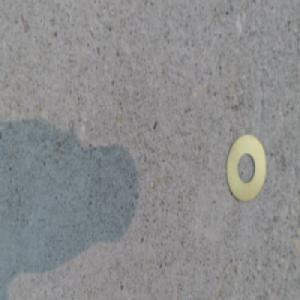Washer: (224, 131, 266, 203)
